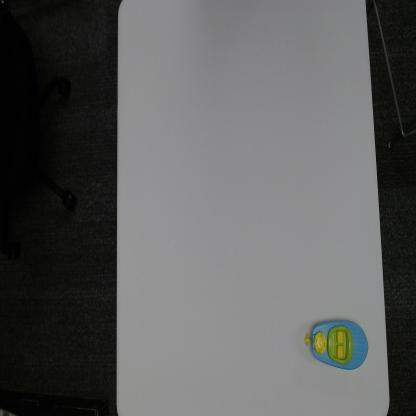Boat: (304, 312, 370, 378)
